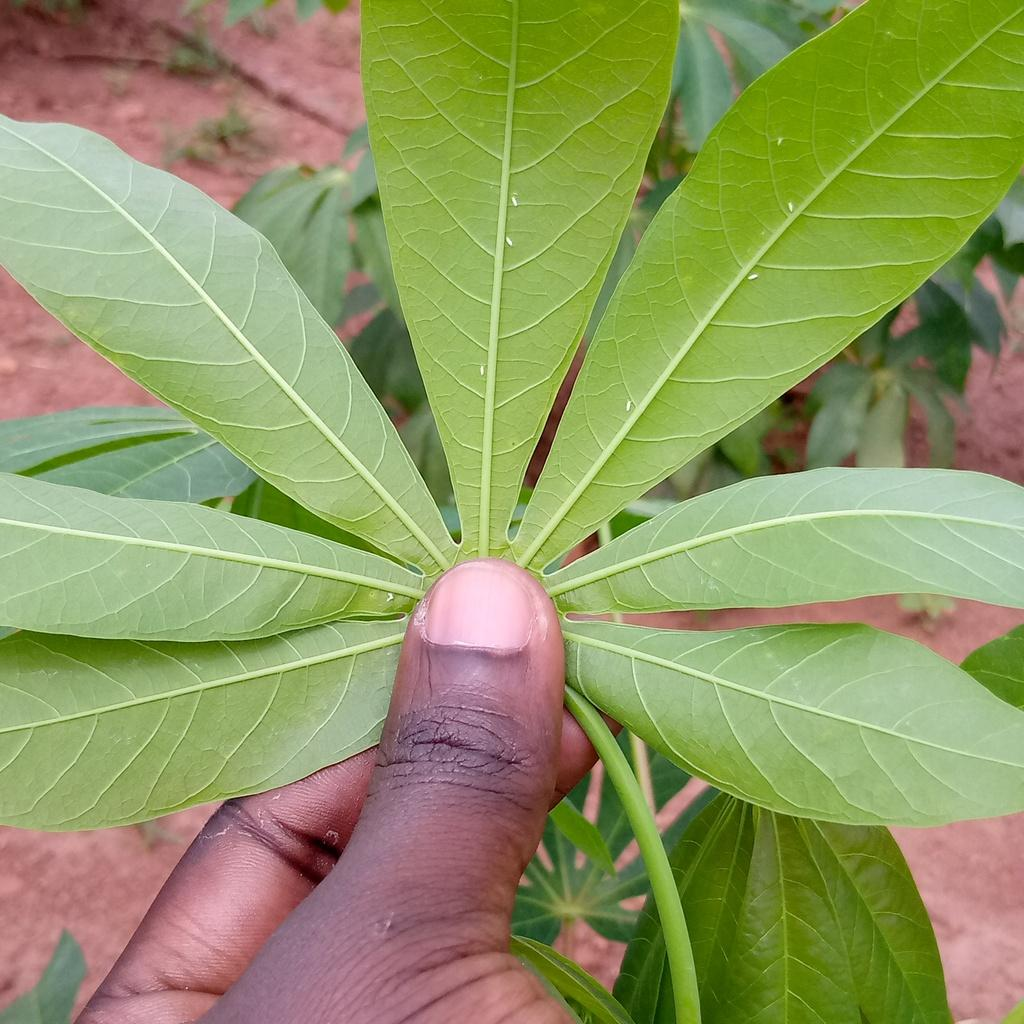adult: (625, 400, 633, 412), (385, 592, 394, 602), (505, 236, 513, 247), (511, 195, 518, 207), (747, 273, 758, 280), (787, 202, 794, 212), (479, 365, 485, 376), (777, 138, 782, 145)
